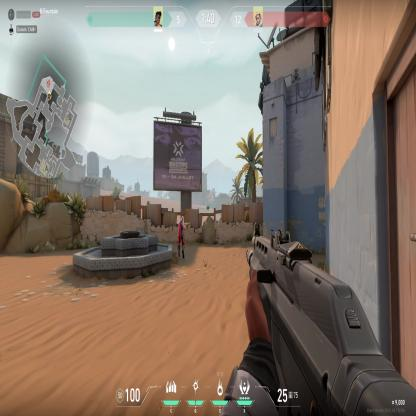enemy: (178, 214, 188, 261)
